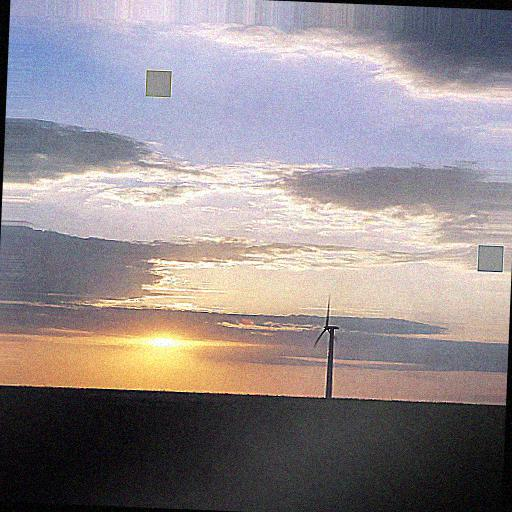wind turbine: (313, 293, 342, 403)
